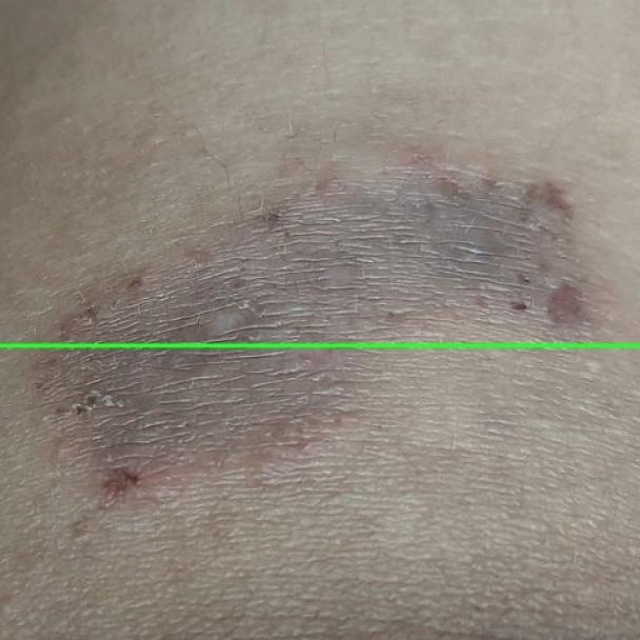Tinea Corporis: (0, 0, 639, 345)
